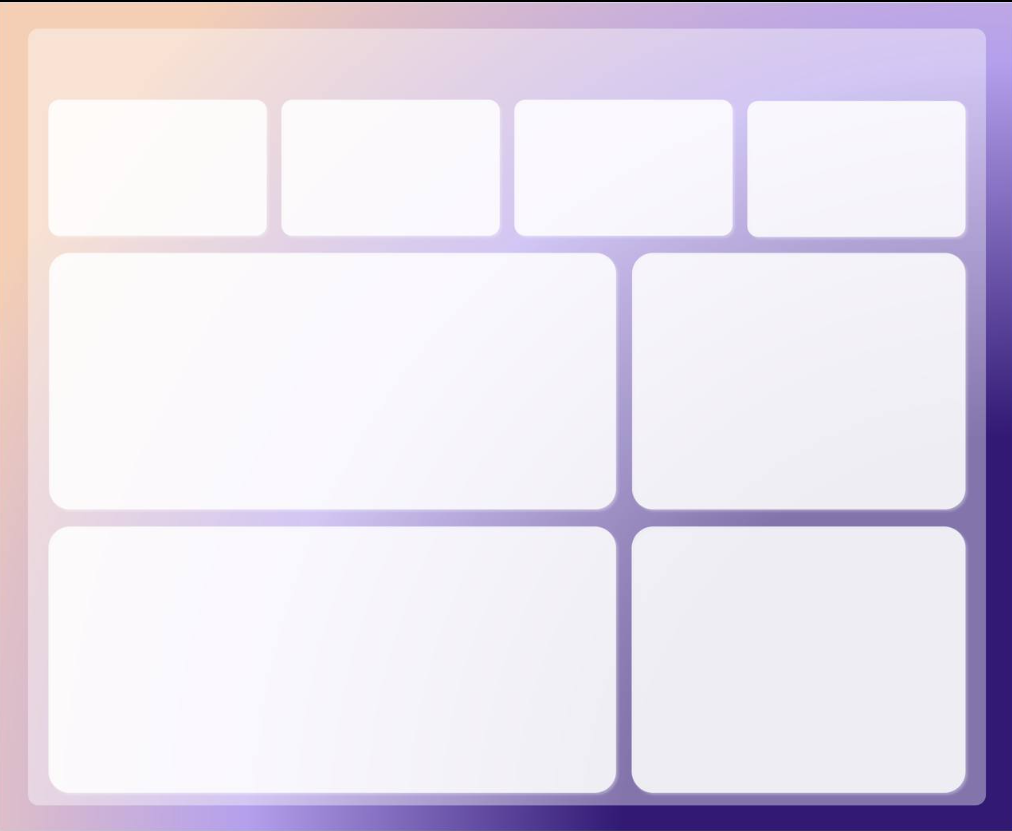

The dashboard page shown, as its layout file describes it:
{"tool":"powerbi","page":{"name":"Revenue_Overviews ","canvas":[1280,720],"ordinal":0},"visuals":[{"type":"cardVisual","fields":{"Data":["_measures.Total Revenue"]},"box":[103.1,106.2,233,193.8],"z":0},{"type":"cardVisual","fields":{"Data":["_measures.Total Gross Profit"]},"box":[103.1,306.2,233,189.7],"z":1000},{"type":"cardVisual","fields":{"Data":["_Margin n Ratio.Gross Margin %"]},"box":[345.4,106.2,237.1,193.8],"z":2000},{"type":"cardVisual","fields":{"Data":["_Time_int.YoY Growth %"]},"box":[345.4,306.2,237.1,189.7],"z":3000},{"type":"lineChart","fields":{"Y":["_measures.Total Revenue"],"Category":["Date_Table.Year"]},"box":[588.7,406.2,639.2,294.8],"z":4000},{"type":"clusteredColumnChart","fields":{"Y":["Sum(Sales_Transactions.Net_Revenue)"],"Category":["Products.Product_Name"]},"box":[587.6,106.2,640.2,290.7],"z":5000},{"type":"advancedSlicerVisual","fields":{"Values":["Date_Table.Year"]},"box":[345.4,505.2,237.1,194.8],"z":6000},{"type":"advancedSlicerVisual","fields":{"Values":["Customers.Region"],"Label":["Min(Customers.Region)"]},"box":[103.1,505.2,233,194.8],"z":7000}]}

Visuals, with their boxes on the page's 1280x720 design canvas (x1, y1, x2, y2). These are canvas units, not pixel positions in the 1012x831 screenshot, which may show the page scaled, cropped or inside an application window:
cardVisual - _measures.Total Revenue: x1=103, y1=106, x2=336, y2=300
cardVisual - _measures.Total Gross Profit: x1=103, y1=306, x2=336, y2=496
cardVisual - _Margin n Ratio.Gross Margin %: x1=345, y1=106, x2=582, y2=300
cardVisual - _Time_int.YoY Growth %: x1=345, y1=306, x2=582, y2=496
lineChart - _measures.Total Revenue x Date_Table.Year: x1=589, y1=406, x2=1228, y2=701
clusteredColumnChart - Sum(Sales_Transactions.Net_Revenue) x Products.Product_Name: x1=588, y1=106, x2=1228, y2=397
advancedSlicerVisual - Date_Table.Year: x1=345, y1=505, x2=582, y2=700
advancedSlicerVisual - Customers.Region x Min(Customers.Region): x1=103, y1=505, x2=336, y2=700
